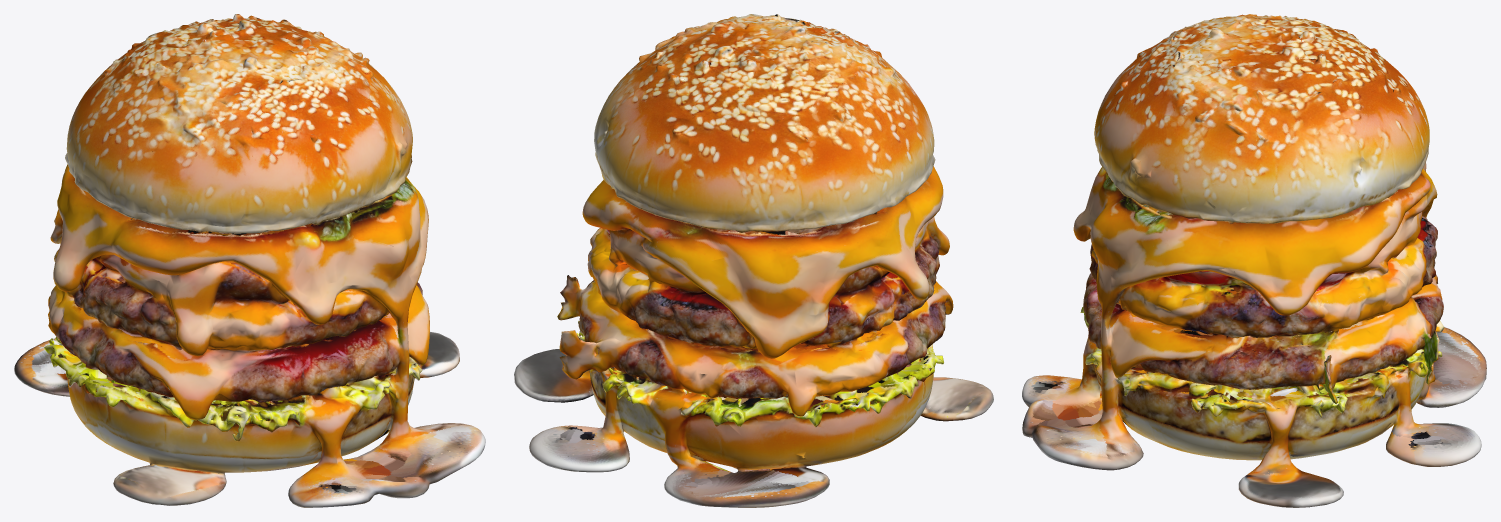
The model's file is syncmvd.glb.
3 views of the same model, side by side, from view 1: azimuth 30°, elevation 25°; view 2: azimuth 150°, elevation 25°; view 3: azimuth 270°, elevation 25° (orthographic). The views are drawn at different scales.
Visible parts, largest first — view 1: textured; view 2: textured; view 3: textured.
Boxes of the visible parts, x1,y1,x2,y2 form: textured: (14, 14, 485, 507); textured: (514, 14, 993, 507); textured: (1022, 14, 1486, 507).
Size of the model in its own units: 1.95 by 1.77 by 2.
Materials: 1 (1 with a texture image).
